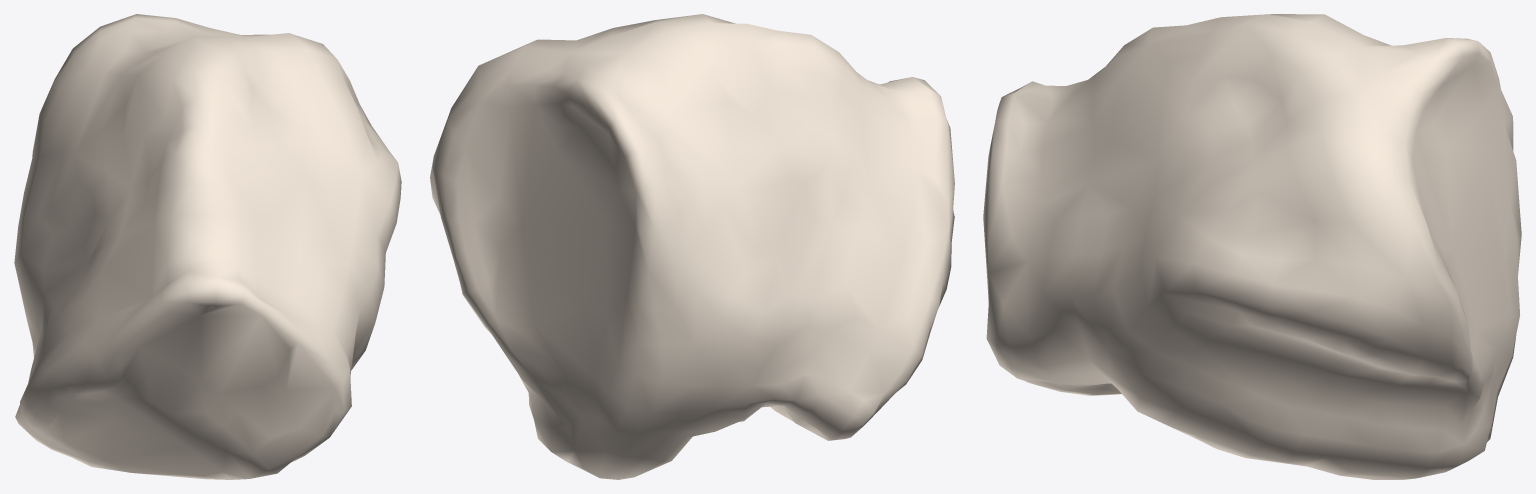
Rendered from right_cuboid.glb.
3 views of the same model, side by side, from view 1: azimuth 30°, elevation 25°; view 2: azimuth 150°, elevation 25°; view 3: azimuth 270°, elevation 25° (orthographic). The views are drawn at different scales.
Parts seen in each view (by area): view 1: Cuboid bone.r; view 2: Cuboid bone.r; view 3: Cuboid bone.r.
Boxes of the visible parts, x1,y1,x2,y2 form: Cuboid bone.r: (14, 14, 401, 479); Cuboid bone.r: (430, 14, 954, 479); Cuboid bone.r: (983, 14, 1521, 479).
Size of the model in its own units: 0.0338 by 0.0306 by 0.0338.
